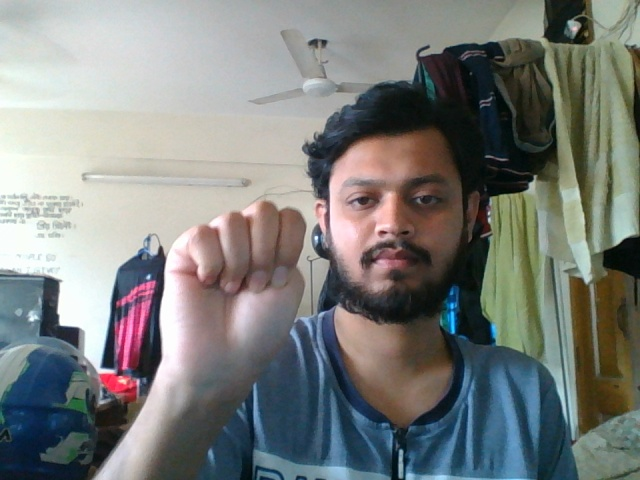to: (150, 197, 319, 394)
